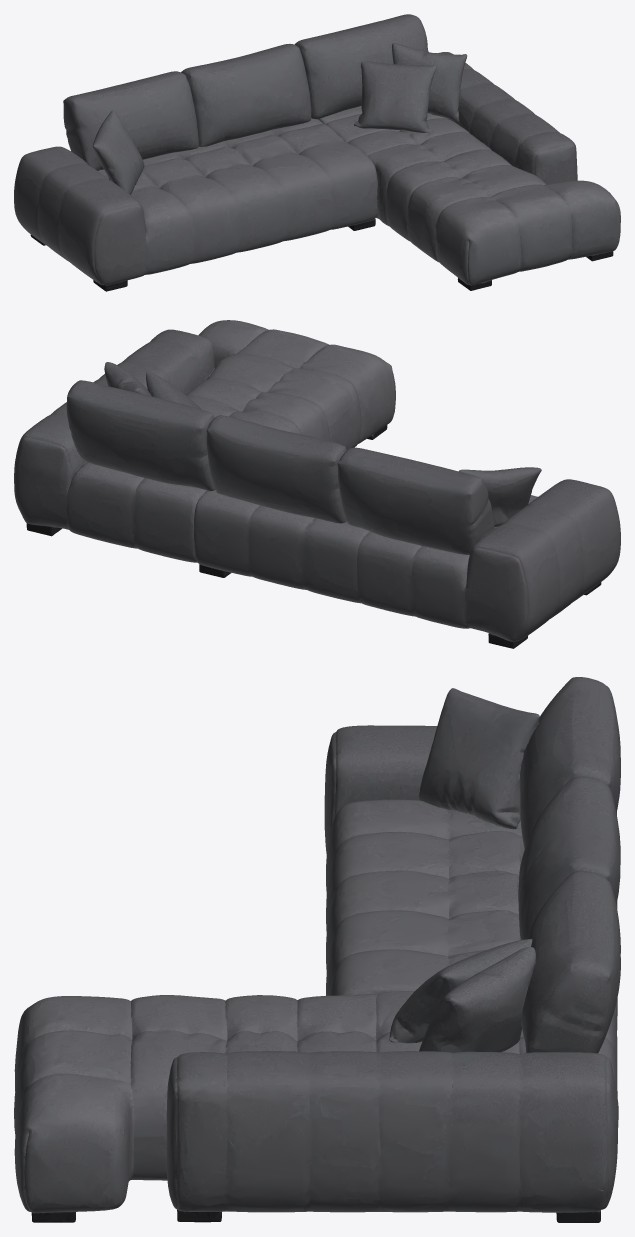
File: caravanafurniture-com-products-right-facing-chaise-sectional-76e24b.glb
The picture shows the model from 3 angles, top to bottom: view 1: azimuth 30°, elevation 25°; view 2: azimuth 150°, elevation 25°; view 3: azimuth 270°, elevation 25°; orthographic projection. The views are drawn at different scales.
Visible parts, largest first — view 1: Mesh_0; view 2: Mesh_0; view 3: Mesh_0.
Part boxes in pixels (bbox=[...]): Mesh_0: bbox=[14, 14, 620, 291]; Mesh_0: bbox=[14, 320, 620, 648]; Mesh_0: bbox=[14, 677, 620, 1222].
Size of the model in its own units: 1.9 by 0.5446 by 1.31.
1 material, 1 textured.
